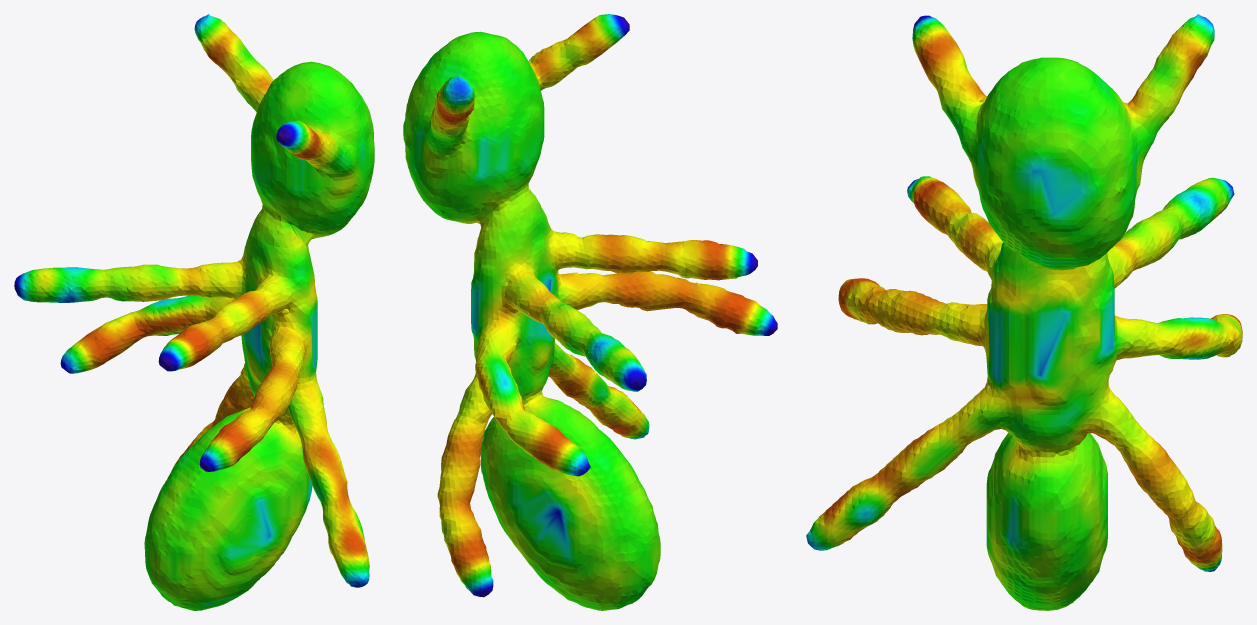
File: tr_scan_0991.obj
3 views of the same model, side by side, from view 1: azimuth 30°, elevation 25°; view 2: azimuth 150°, elevation 25°; view 3: azimuth 270°, elevation 25° (orthographic). The views are drawn at different scales.
Size of the model in its own units: 56.83 by 103 by 64.77.
Materials: 1 (1 with a texture image).
